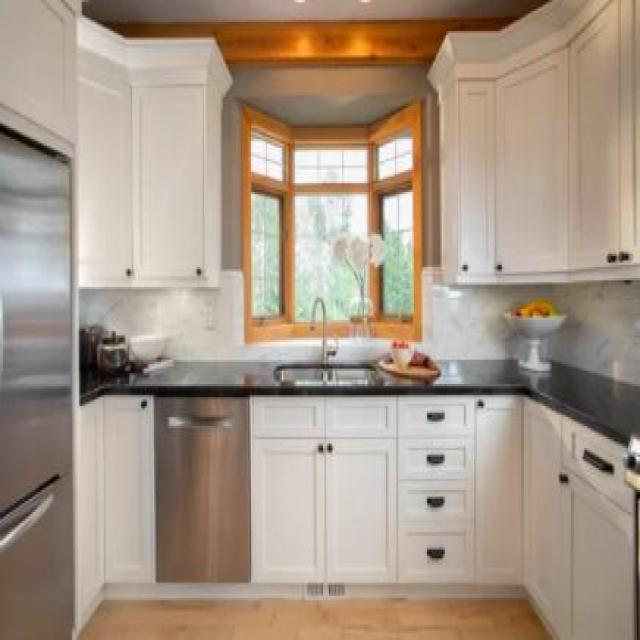dishwasher: (152, 384, 256, 591)
